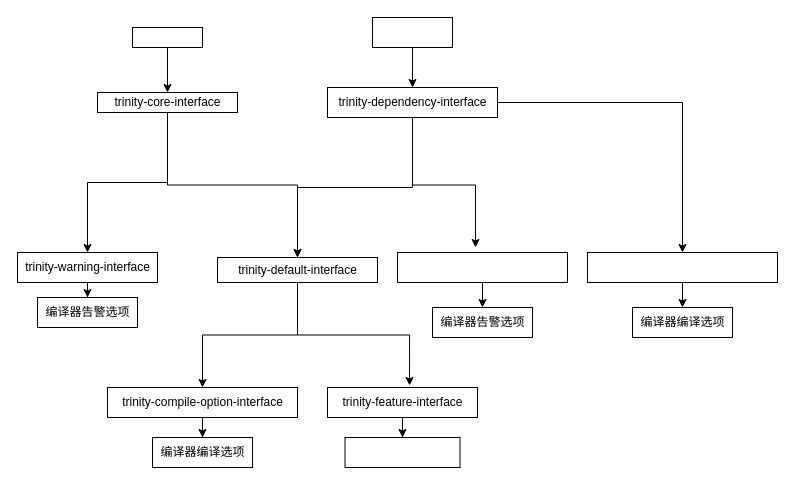
Image size: 795x485. Some labels were removed from this diagram. Each missing label, with the box of its shape:
trinity-hidden-symbols-interface: (586, 252, 778, 282)
trinity-no-warning-interface: (396, 252, 568, 282)
程序代码: (132, 26, 202, 48)
第三方库: (372, 16, 452, 48)
编译器特性标准选项: (344, 436, 460, 468)
